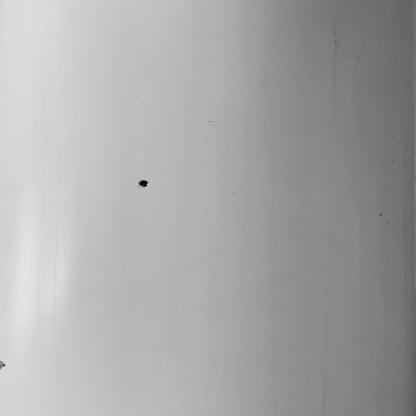kongdong: (126, 172, 156, 194)
